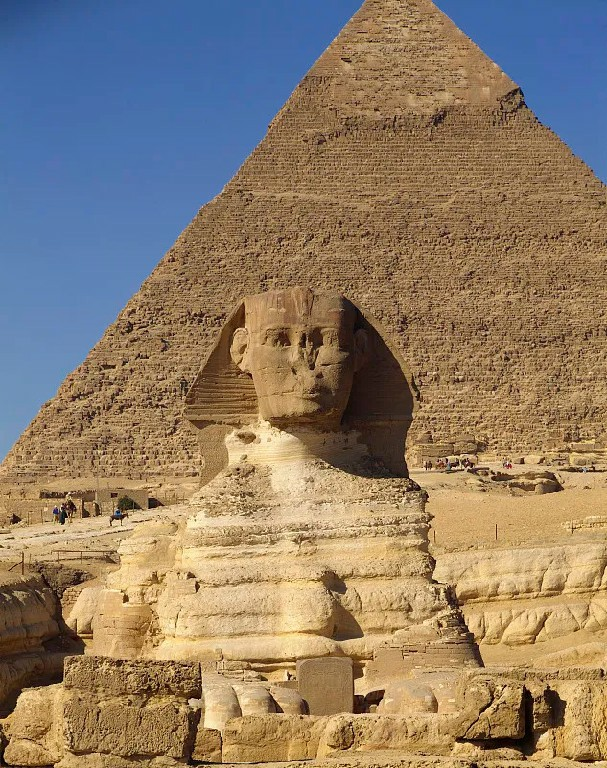Pyramid: (1, 1, 607, 482)
